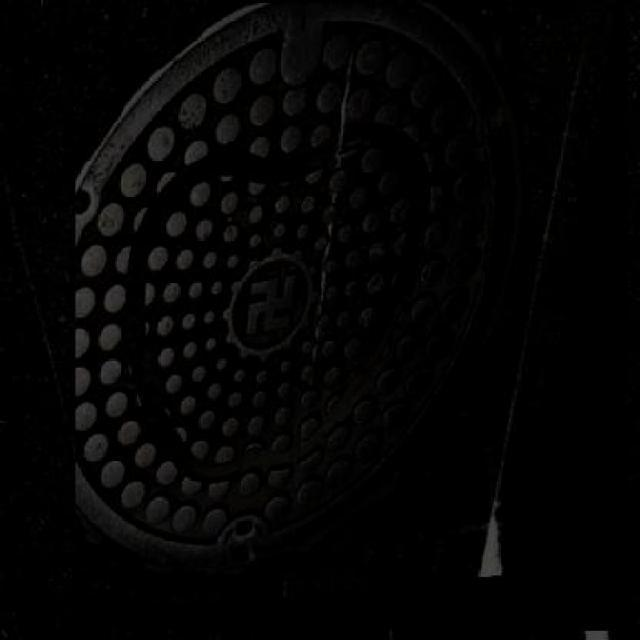Manhole: (75, 3, 626, 631)
